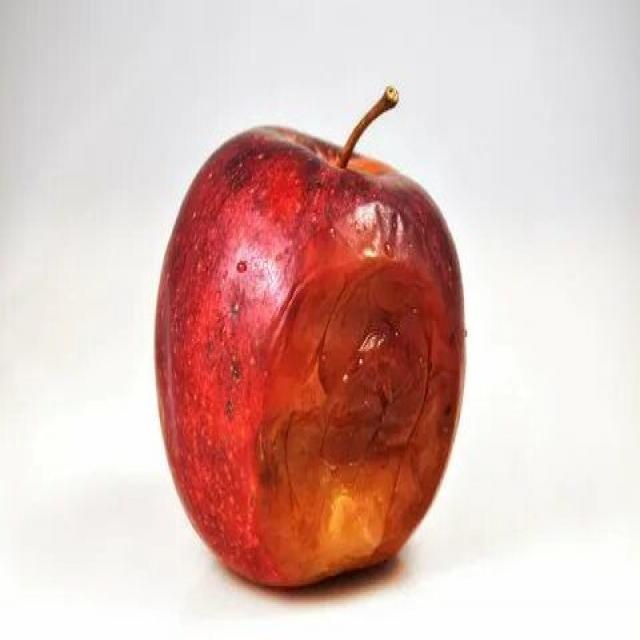Rotten: (172, 128, 462, 580)
